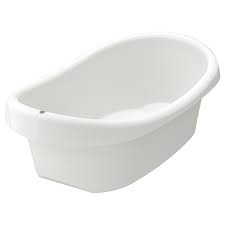bathub: (6, 28, 223, 199)
